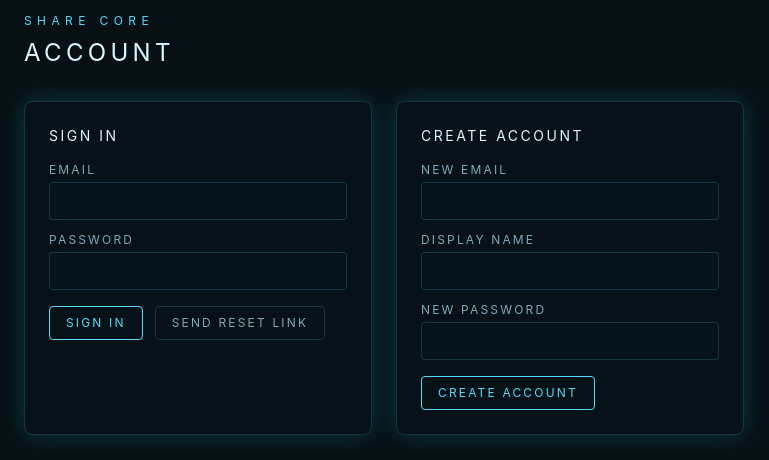
it: AccountPage anonymous forms › requests a reset email from the sign-in panel
In the field labelled "Email": (198, 201) x1=49 y1=182 x2=347 y2=220, type "ada@example.com"
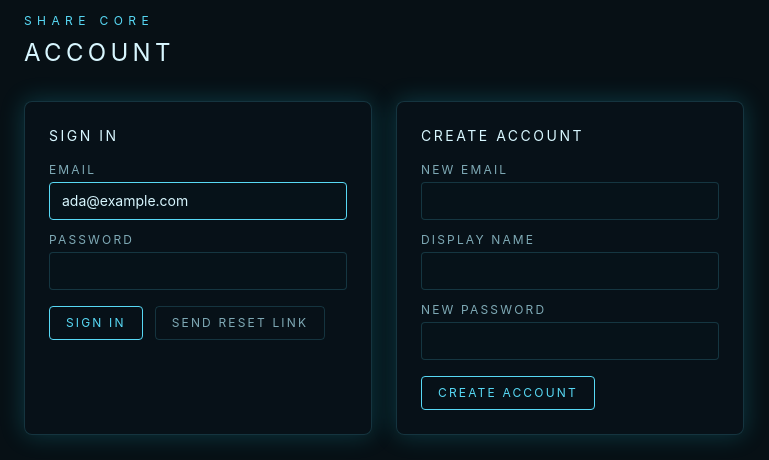
Click the button "Send Reset Link": (240, 323) x1=155 y1=306 x2=325 y2=340
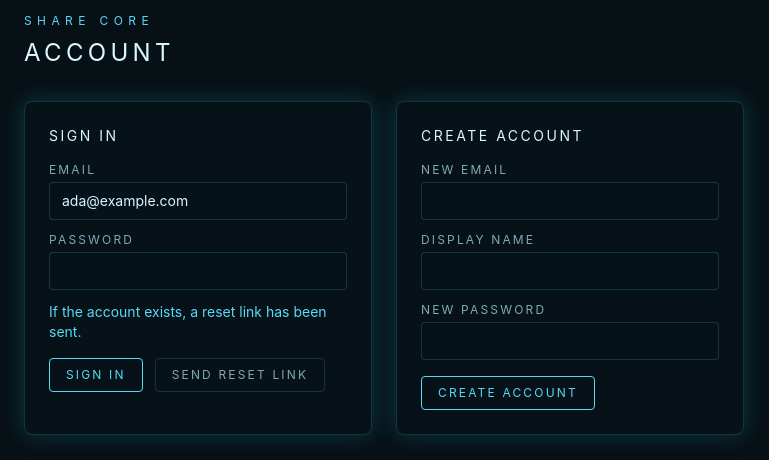
expect the text "If the account exists, a reset link has been sent." is shown: met, box x1=49 y1=302 x2=347 y2=342
